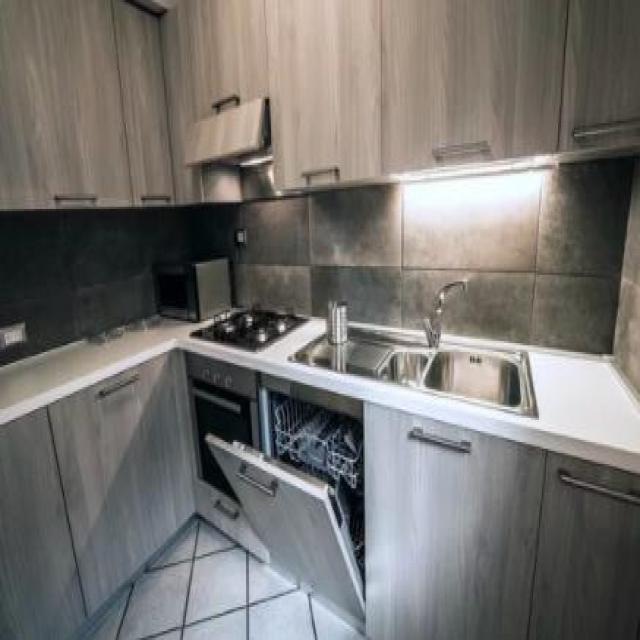dishwasher: (205, 385, 369, 633)
